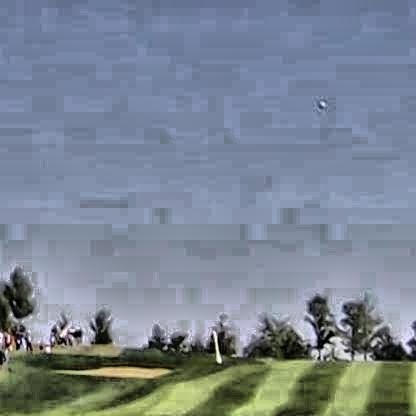golfball: (314, 99, 322, 106)
